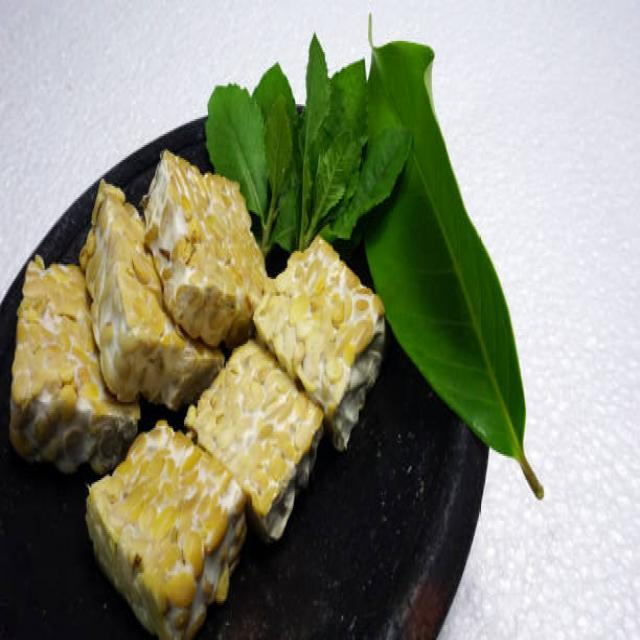tempeh: (8, 253, 99, 463), (150, 167, 256, 337), (85, 190, 168, 400)
tofu: (91, 433, 232, 637), (276, 243, 384, 420), (218, 341, 319, 521)
